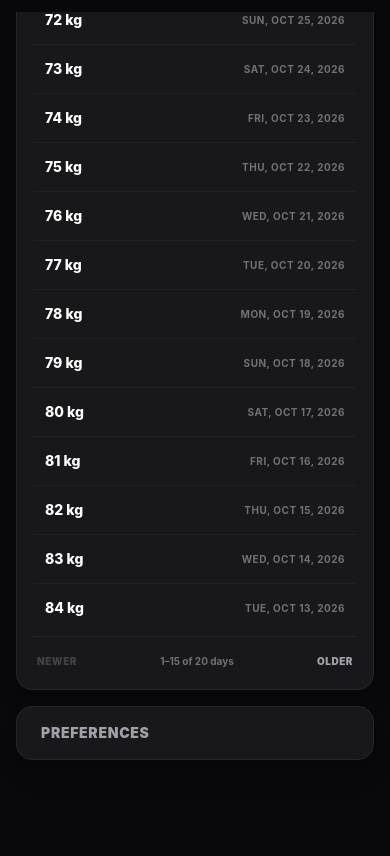
Test: TDEEScreen › daily history › pages to older and back to newer days
(page scrolled)
Expected: the text "89 kg" is not shown
Expected: the text "1–15 of 20 days" is shown, top-left (160, 655), bottom-right (234, 667)
Click the element with test id "daily-older-button": (335, 661) top-left (317, 655), bottom-right (353, 667)
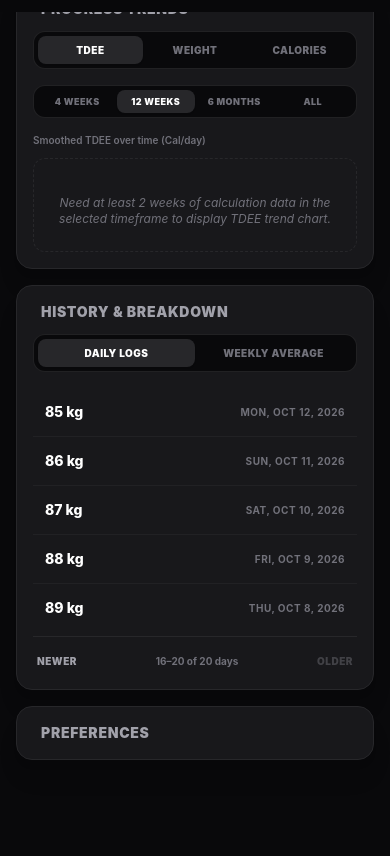
Now the text "85 kg" is shown 5 times, box top-left (45, 402), bottom-right (83, 422); top-left (45, 451), bottom-right (84, 471); top-left (45, 500), bottom-right (82, 520); top-left (45, 549), bottom-right (84, 569); top-left (45, 598), bottom-right (84, 618)
Now the text "89 kg" is shown, box top-left (45, 598), bottom-right (84, 618)
Now the text "16–20 of 20 days" is shown, box top-left (156, 655), bottom-right (238, 667)
Click the element with test id "daily-newer-button": (57, 661) top-left (37, 655), bottom-right (77, 667)
(page scrolled)
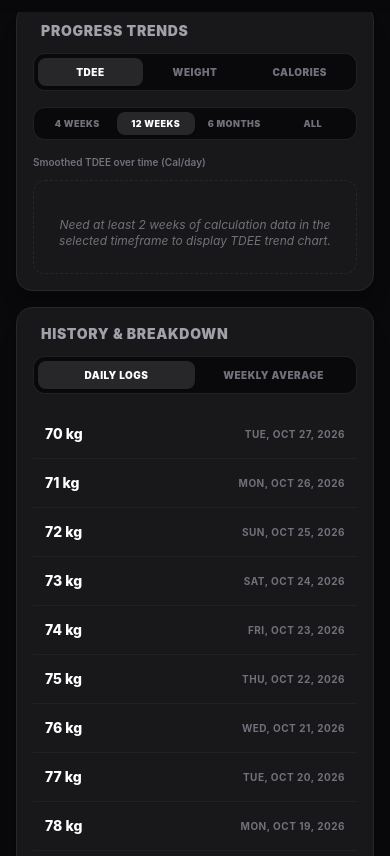
Now the text "70 kg" is shown 15 times
Now the text "70 kg" is shown, box top-left (45, 424), bottom-right (83, 444)
